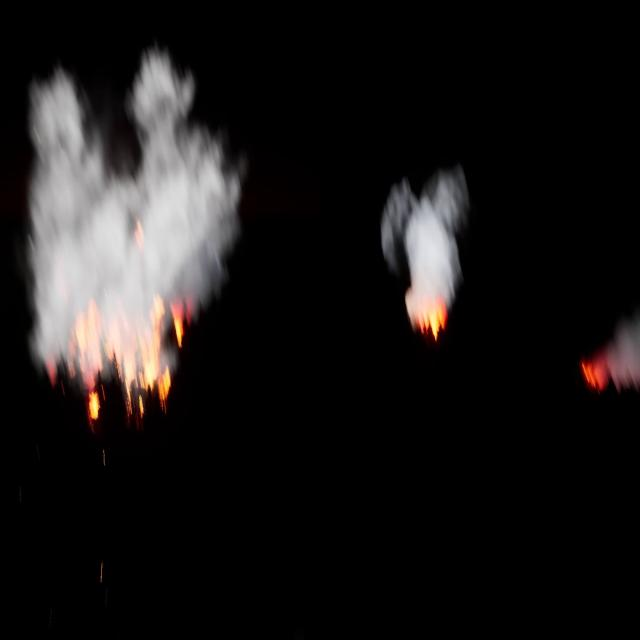fire: (48, 294, 198, 409), (408, 291, 446, 342), (580, 344, 610, 390)
smoke: (28, 49, 242, 375), (375, 171, 474, 320), (601, 323, 639, 401)
